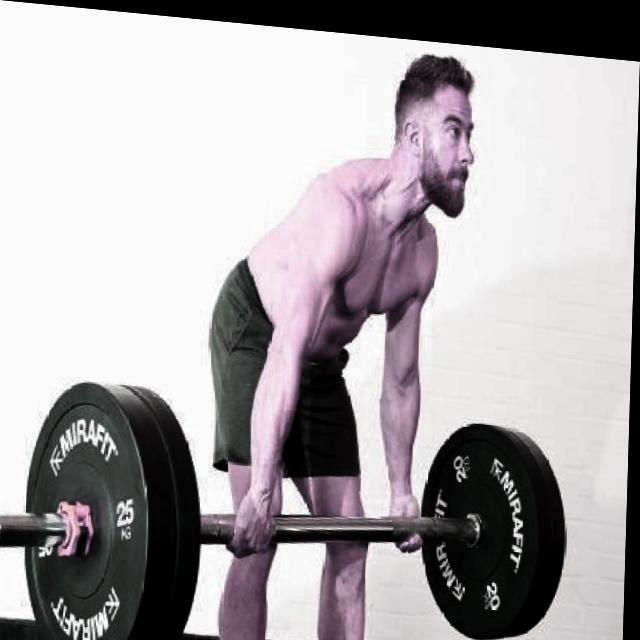barbell: (1, 367, 161, 640)
